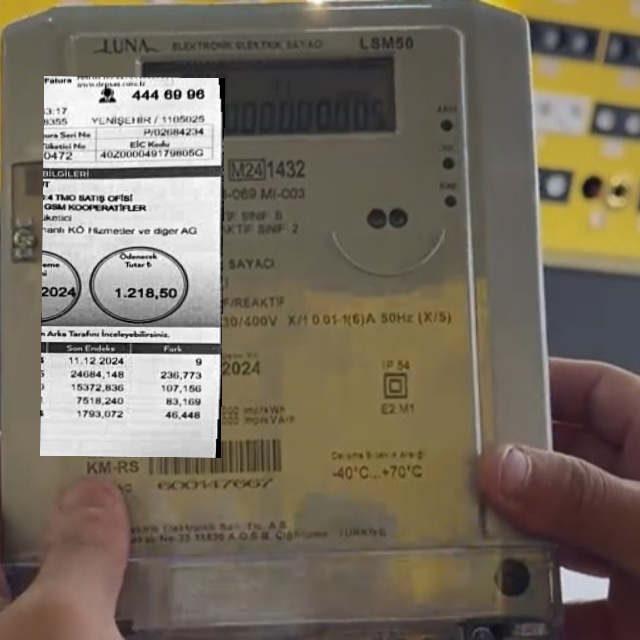electricity-bill: (40, 75, 224, 457)
